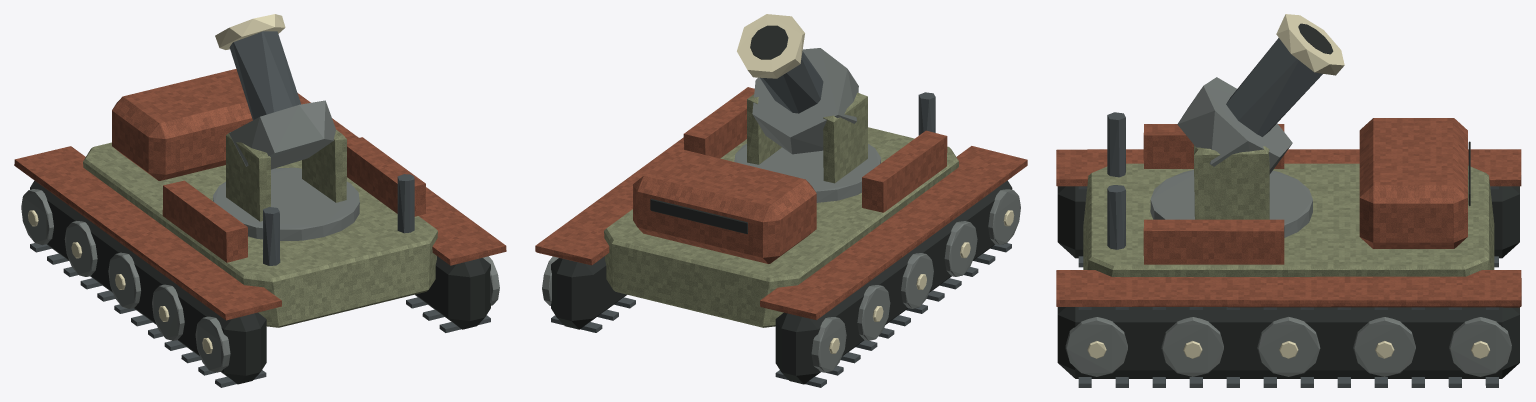
3 views of the same model, side by side, from view 1: azimuth 30°, elevation 25°; view 2: azimuth 150°, elevation 25°; view 3: azimuth 270°, elevation 25° (orthographic). The views are drawn at different scales.
Visible parts, largest first — view 1: ST2-E03_Mesh, Track_L_Mesh, TurretYaw_Mesh, BarrelRecoil_Mesh, Track_R_Mesh; view 2: ST2-E03_Mesh, Track_L_Mesh, BarrelRecoil_Mesh, TurretYaw_Mesh, Track_R_Mesh; view 3: ST2-E03_Mesh, Track_R_Mesh, BarrelRecoil_Mesh, TurretYaw_Mesh, Track_L_Mesh.
Boxes of the visible parts, left/top/right/bottom form: ST2-E03_Mesh: left=14, top=69, right=506, bottom=327; Track_L_Mesh: left=21, top=180, right=266, bottom=387; TurretYaw_Mesh: left=213, top=130, right=359, bottom=240; BarrelRecoil_Mesh: left=215, top=14, right=335, bottom=169; Track_R_Mesh: left=406, top=256, right=499, bottom=332; ST2-E03_Mesh: left=535, top=87, right=1027, bottom=327; Track_L_Mesh: left=775, top=180, right=1020, bottom=387; BarrelRecoil_Mesh: left=737, top=14, right=858, bottom=154; TurretYaw_Mesh: left=734, top=92, right=880, bottom=202; Track_R_Mesh: left=542, top=256, right=635, bottom=332; ST2-E03_Mesh: left=1056, top=112, right=1521, bottom=307; Track_R_Mesh: left=1057, top=307, right=1519, bottom=387; BarrelRecoil_Mesh: left=1177, top=14, right=1344, bottom=174; TurretYaw_Mesh: left=1150, top=145, right=1312, bottom=237; Track_L_Mesh: left=1057, top=186, right=1519, bottom=267.
Bounding box in the file's own units: 3.66 × 3.33 × 4.73.
6 materials, 2 textured.
